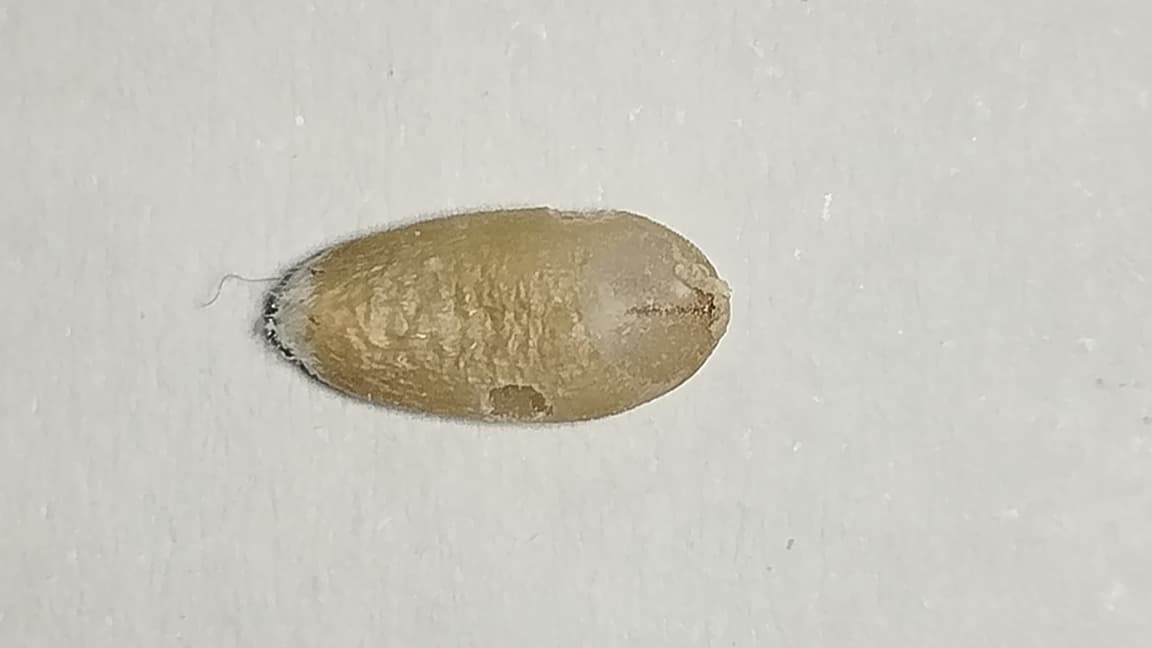damage: (264, 206, 729, 422)
insectdamage: (546, 200, 728, 384), (457, 355, 566, 430)
